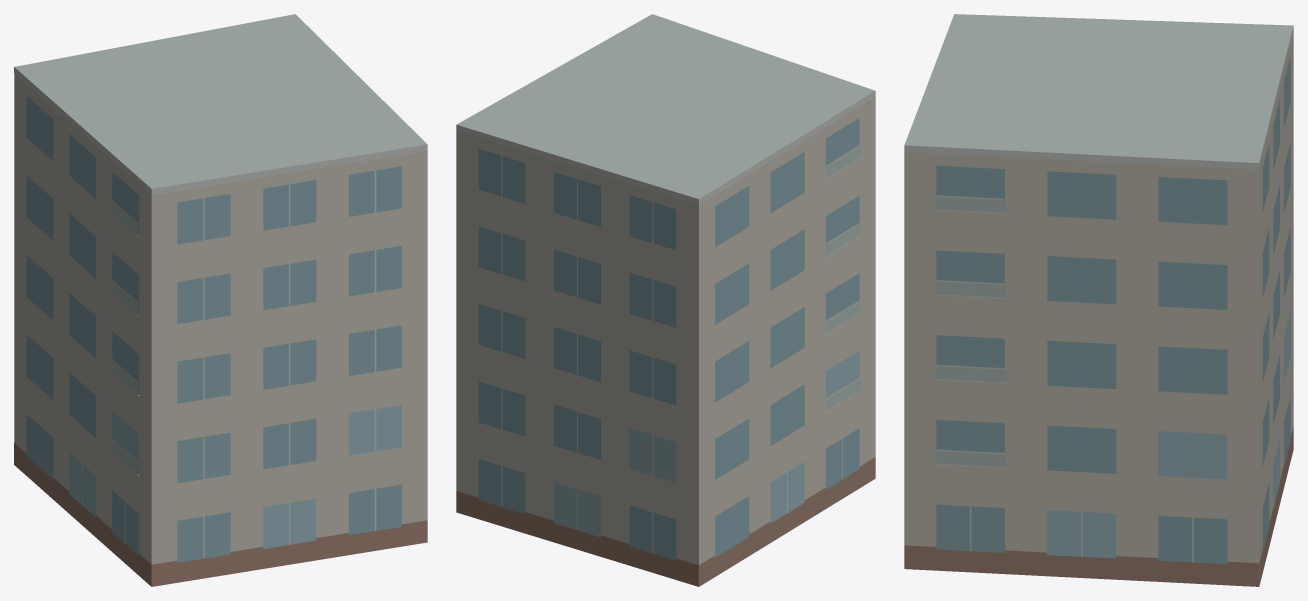
Rendered from survey-upis-32783749.glb.
3 views of the same model, side by side, from view 1: azimuth 30°, elevation 25°; view 2: azimuth 150°, elevation 25°; view 3: azimuth 270°, elevation 25° (orthographic). The views are drawn at different scales.
Visible parts, largest first — view 1: survey-upis-32783749.tmp; view 2: survey-upis-32783749.tmp; view 3: survey-upis-32783749.tmp.
Boxes of the visible parts, bbox=[...] form: survey-upis-32783749.tmp: bbox=[14, 14, 427, 586]; survey-upis-32783749.tmp: bbox=[456, 14, 875, 586]; survey-upis-32783749.tmp: bbox=[904, 14, 1293, 586].
Size of the model in its own units: 11.49 by 15.2 by 12.67.
